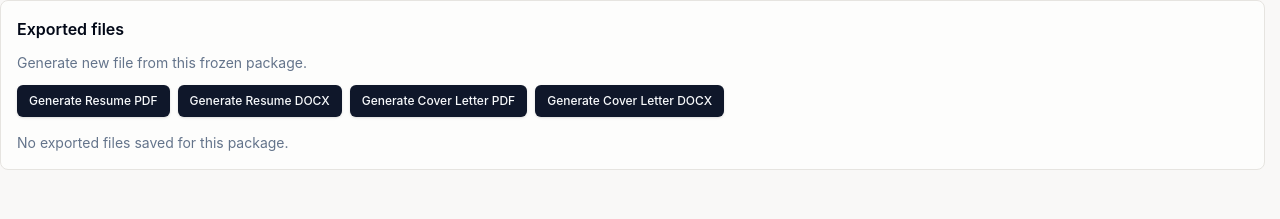
Test case: ArtifactPanel › explains upload status 413
What coordinates should you click on to do the following:
click the button "Generate Resume PDF"
I would click on:
 (93, 101)
Its box is [17,85,170,117].
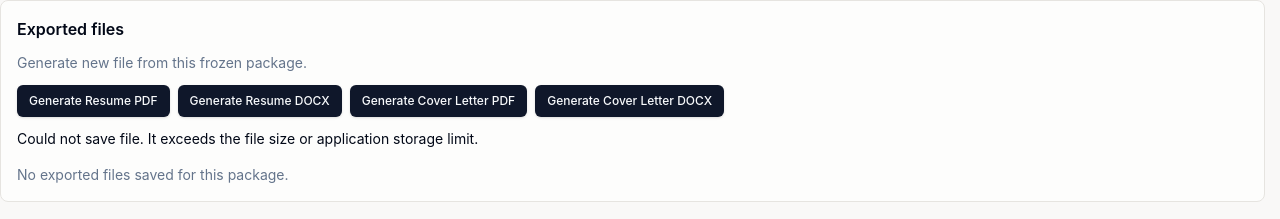
expect the text "size or application storage limit" is shown: met, box [17,130,478,147]
